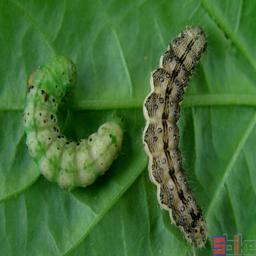Tobacco_budworm: (140, 22, 209, 250), (21, 52, 124, 192)
